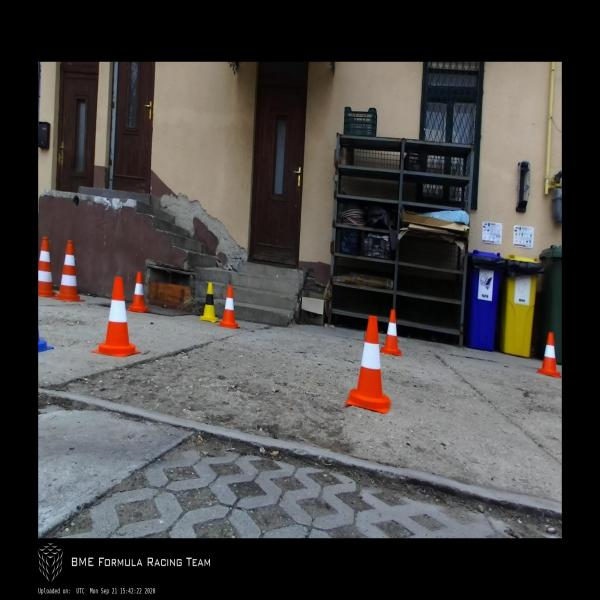large_orange_cone: (52, 240, 85, 302), (38, 236, 57, 298)
orange_cone: (346, 315, 390, 414), (92, 278, 142, 356), (536, 332, 561, 376), (380, 310, 402, 357), (218, 285, 240, 329), (126, 272, 150, 312)
yellow_cone: (200, 281, 218, 323)
